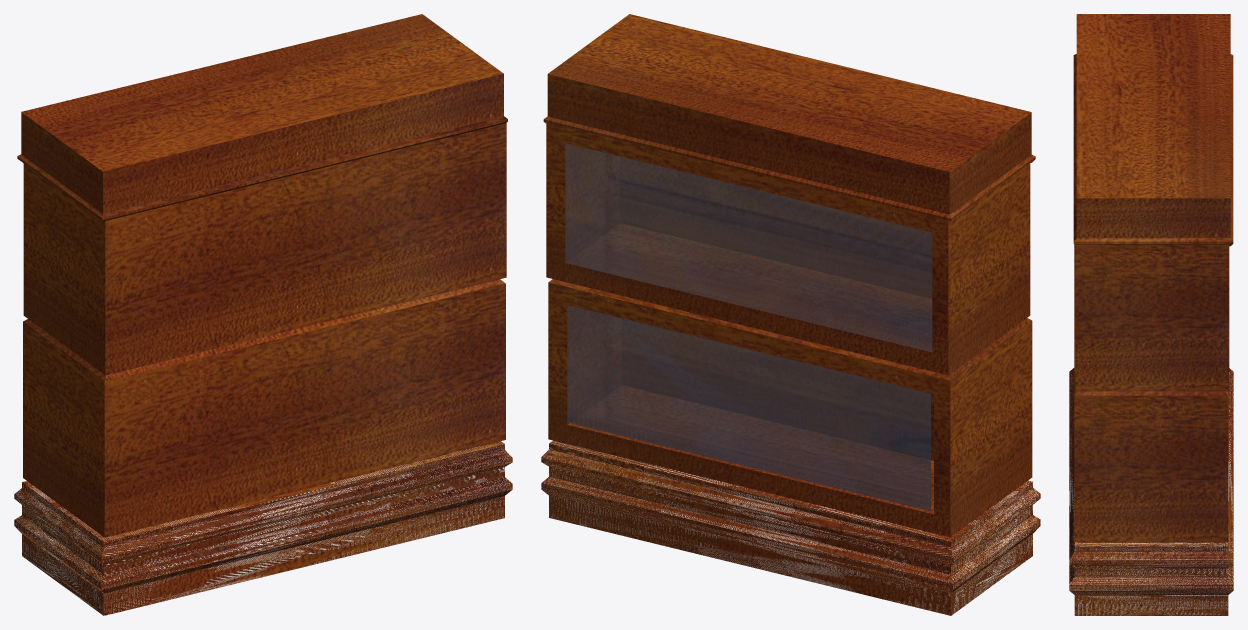
The picture shows the model from 3 angles, left to right: view 1: azimuth 30°, elevation 25°; view 2: azimuth 150°, elevation 25°; view 3: azimuth 270°, elevation 25°; orthographic projection. The views are drawn at different scales.
Visible parts, largest first — view 1: mesh4_mesh4-geometry, mesh1_mesh1-geometry, mesh3_mesh3-geometry; view 2: mesh4_mesh4-geometry, mesh1_mesh1-geometry, mesh7_mesh7-geometry, mesh8_mesh8-geometry, mesh3_mesh3-geometry; view 3: mesh4_mesh4-geometry, mesh1_mesh1-geometry, mesh3_mesh3-geometry.
Boxes of the visible parts, box(x1,y1,x2,y2) form: mesh4_mesh4-geometry: box(23, 123, 506, 537); mesh1_mesh1-geometry: box(17, 14, 507, 222); mesh3_mesh3-geometry: box(14, 441, 512, 615); mesh4_mesh4-geometry: box(546, 122, 1032, 537); mesh1_mesh1-geometry: box(543, 14, 1035, 220); mesh7_mesh7-geometry: box(565, 143, 932, 352); mesh8_mesh8-geometry: box(567, 305, 930, 511); mesh3_mesh3-geometry: box(541, 440, 1040, 615); mesh4_mesh4-geometry: box(1074, 244, 1229, 542); mesh1_mesh1-geometry: box(1073, 14, 1233, 246); mesh3_mesh3-geometry: box(1069, 368, 1233, 615).
Bounding box in the file's own units: 0.6743 × 0.6955 × 0.2483.
